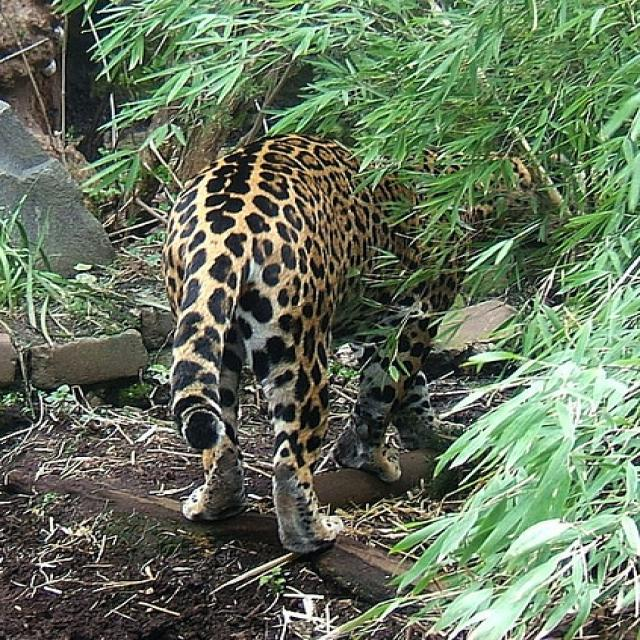Leopard: (159, 133, 566, 549)
